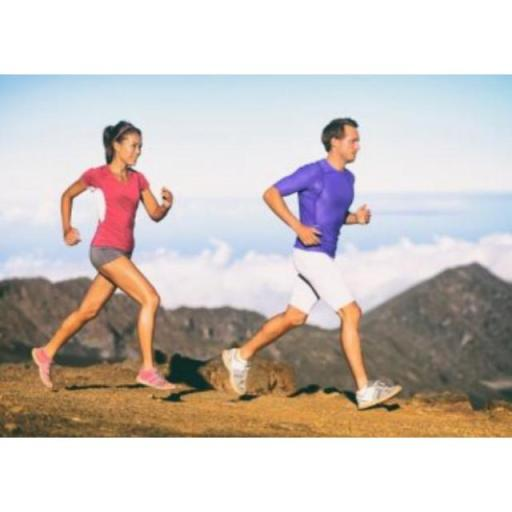Running: (222, 118, 400, 410), (32, 120, 179, 394)
